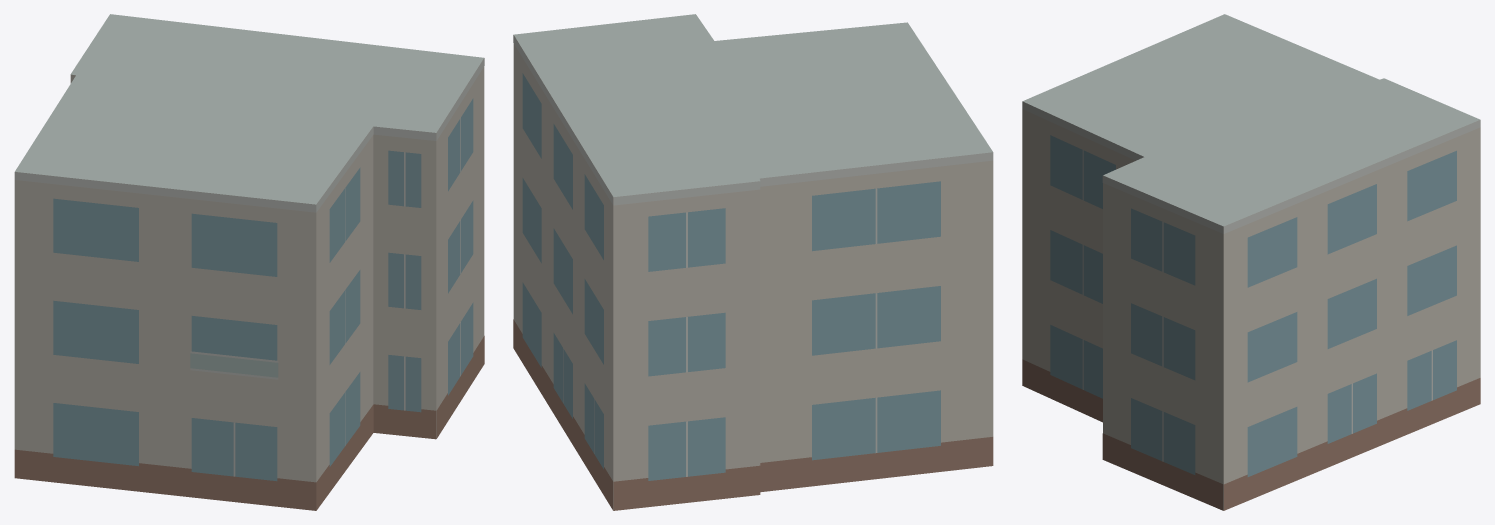
The model's file is survey-upis-32717484.glb.
The picture shows the model from 3 angles, left to right: view 1: azimuth 30°, elevation 25°; view 2: azimuth 150°, elevation 25°; view 3: azimuth 270°, elevation 25°; orthographic projection. The views are drawn at different scales.
Visible parts, largest first — view 1: survey-upis-32717484.tmp; view 2: survey-upis-32717484.tmp; view 3: survey-upis-32717484.tmp.
Part boxes in pixels (bbox=[...]): survey-upis-32717484.tmp: bbox=[14, 14, 484, 510]; survey-upis-32717484.tmp: bbox=[513, 14, 993, 510]; survey-upis-32717484.tmp: bbox=[1022, 14, 1480, 510].
Size of the model in its own units: 14.67 by 9.15 by 13.37.
